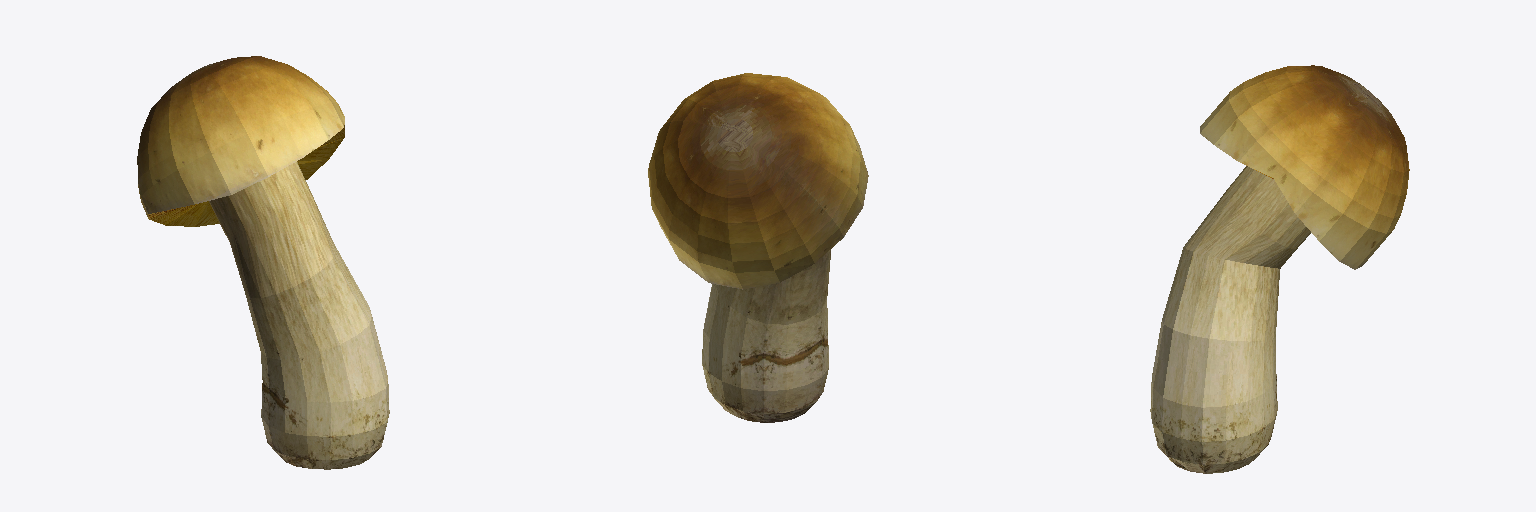
The picture shows the model from 3 angles: view 1: azimuth 30°, elevation 25°; view 2: azimuth 150°, elevation 25°; view 3: azimuth 270°, elevation 25°; orthographic projection.
Parts seen in each view (by area): view 1: toadstool1_a; view 2: toadstool1_a; view 3: toadstool1_a.
Boxes of the visible parts, x1=… form: toadstool1_a: x1=137, y1=56, x2=389, y2=469; toadstool1_a: x1=648, y1=73, x2=868, y2=422; toadstool1_a: x1=1150, y1=65, x2=1409, y2=473.
Bounding box in the file's own units: 12.77 × 23.02 × 14.91.
1 materials, 1 textured.